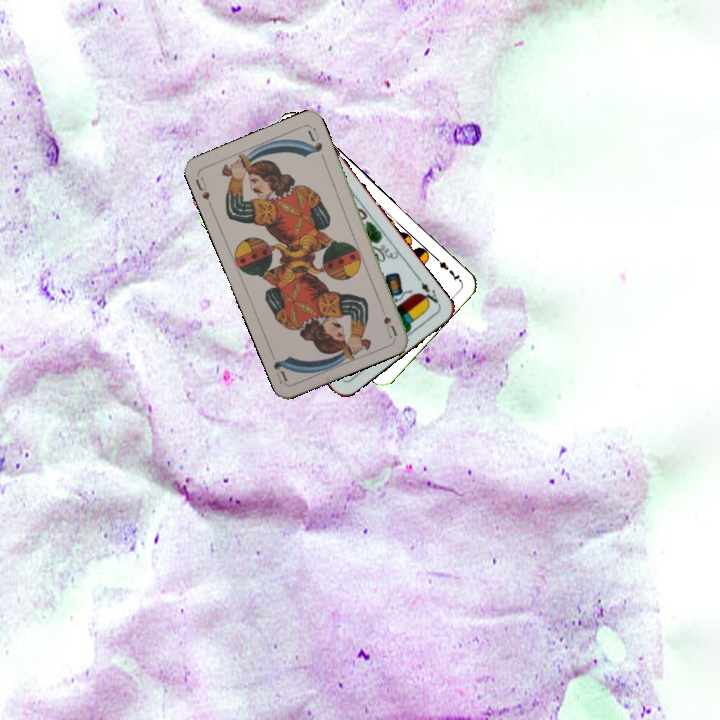E7: (430, 252, 463, 284)
EA: (413, 273, 442, 309)
SU: (191, 171, 215, 210), (377, 300, 400, 339)
